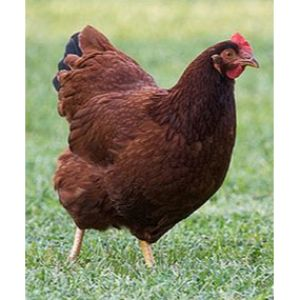hen: (51, 25, 267, 265)
